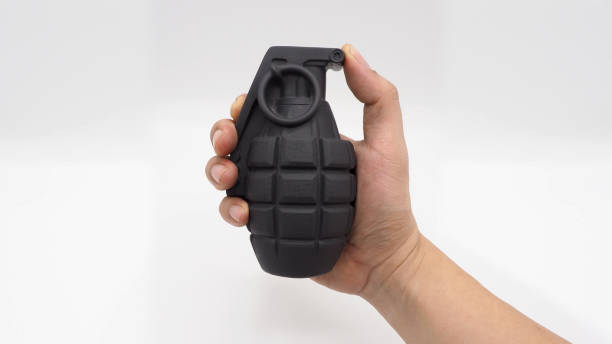e1: (223, 45, 360, 276)
